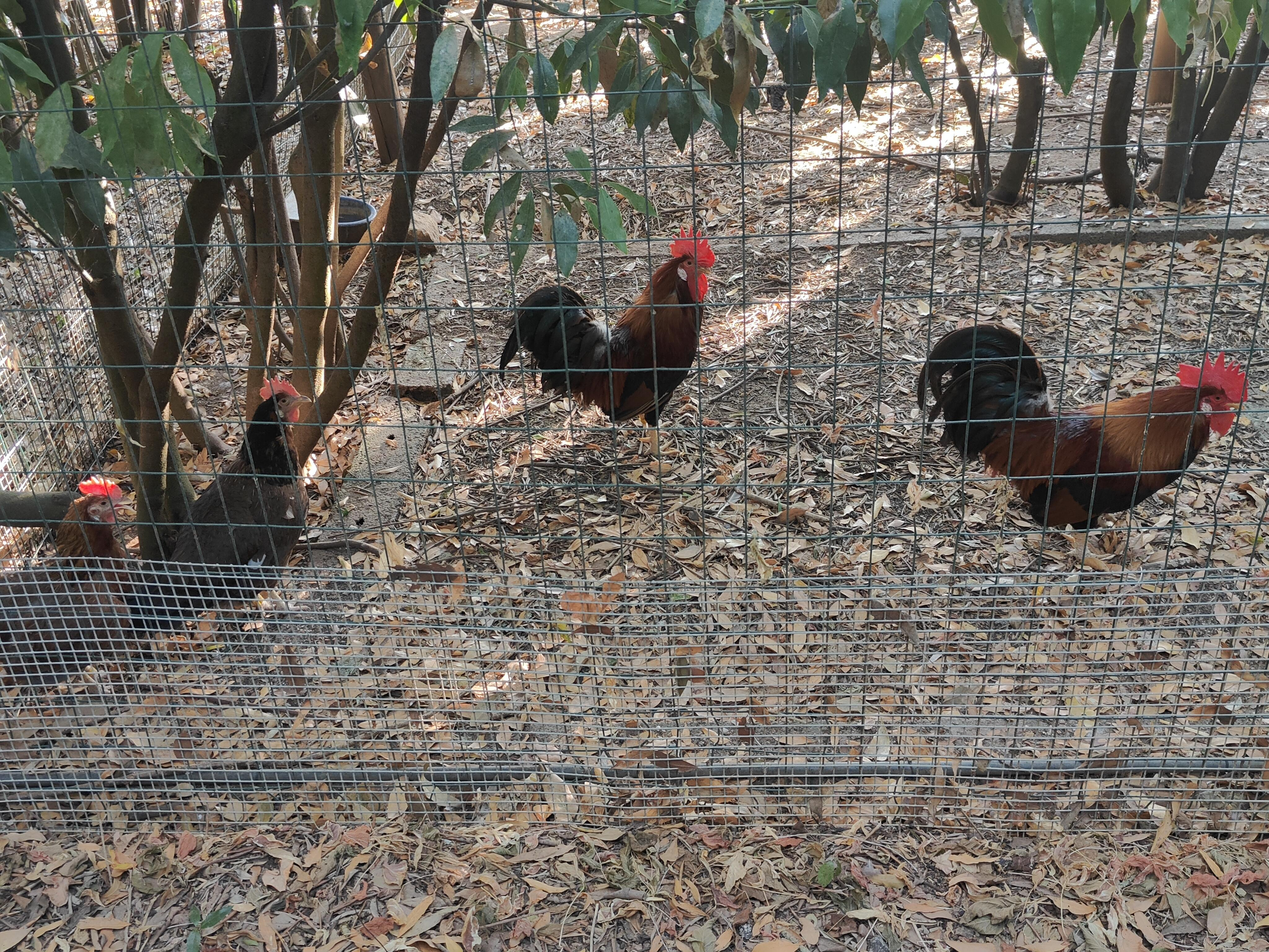apple: (916, 323, 1249, 564), (499, 225, 715, 455), (141, 377, 312, 635), (0, 474, 137, 696)
